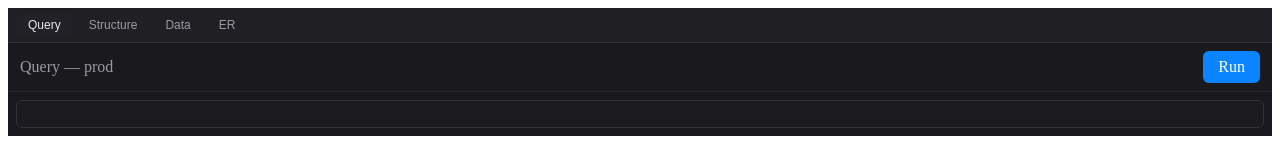
ConnectionWorkspace › 다시 Query 서브탭으로 돌아올 수 있다
This screenshot has width=1280, height=160.
Click the button with test id "subtab-structure" at [113, 25], box 77,14 -> 149,36
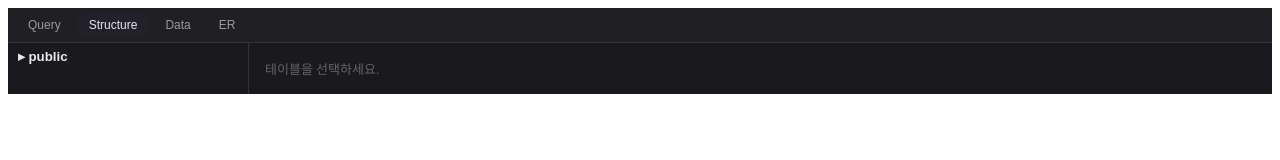
Expected: the button "▸ public" is shown, 8,43 -> 248,70
Click the button with test id "subtab-query" at [44, 25], box 16,14 -> 73,36
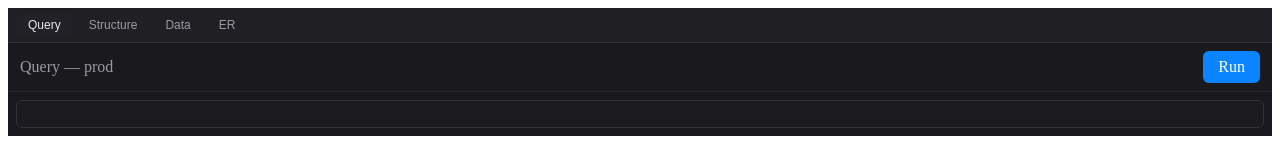
Expected: the text "Query — prod" is shown, 20,58 -> 113,75
